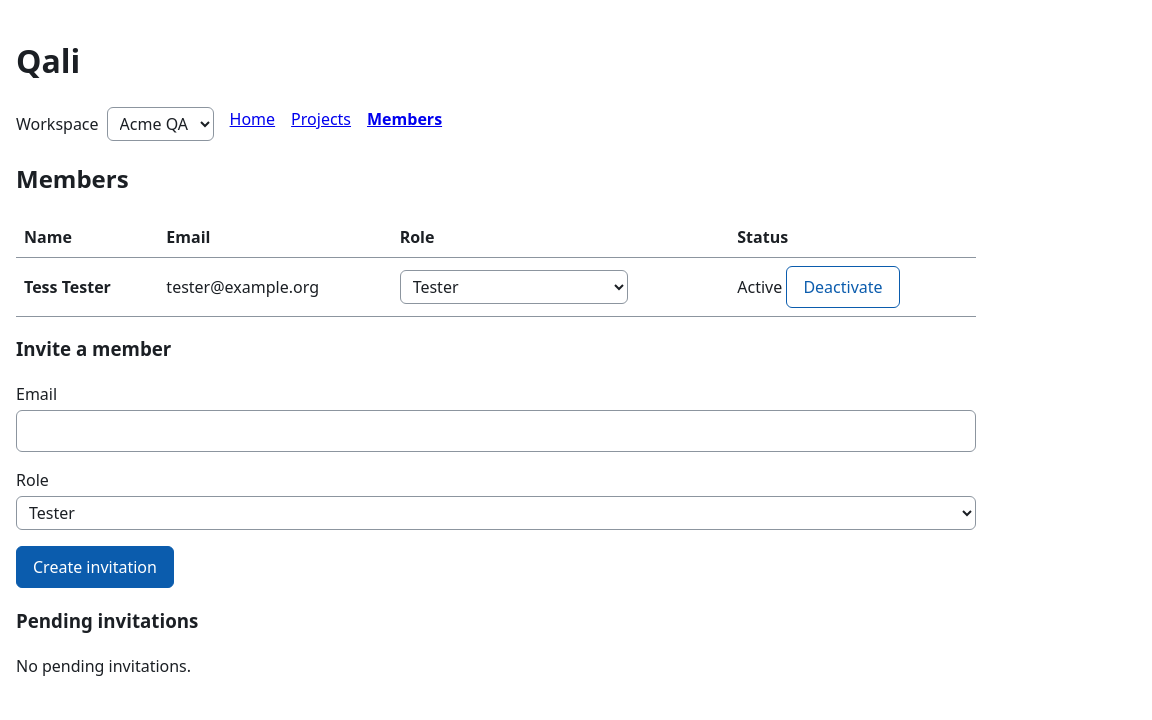
Test: member administration › explains the last-owner rule
Click the button named "Deactivate Tess Tester" at (843, 287), box x1=786 y1=266 x2=900 y2=308
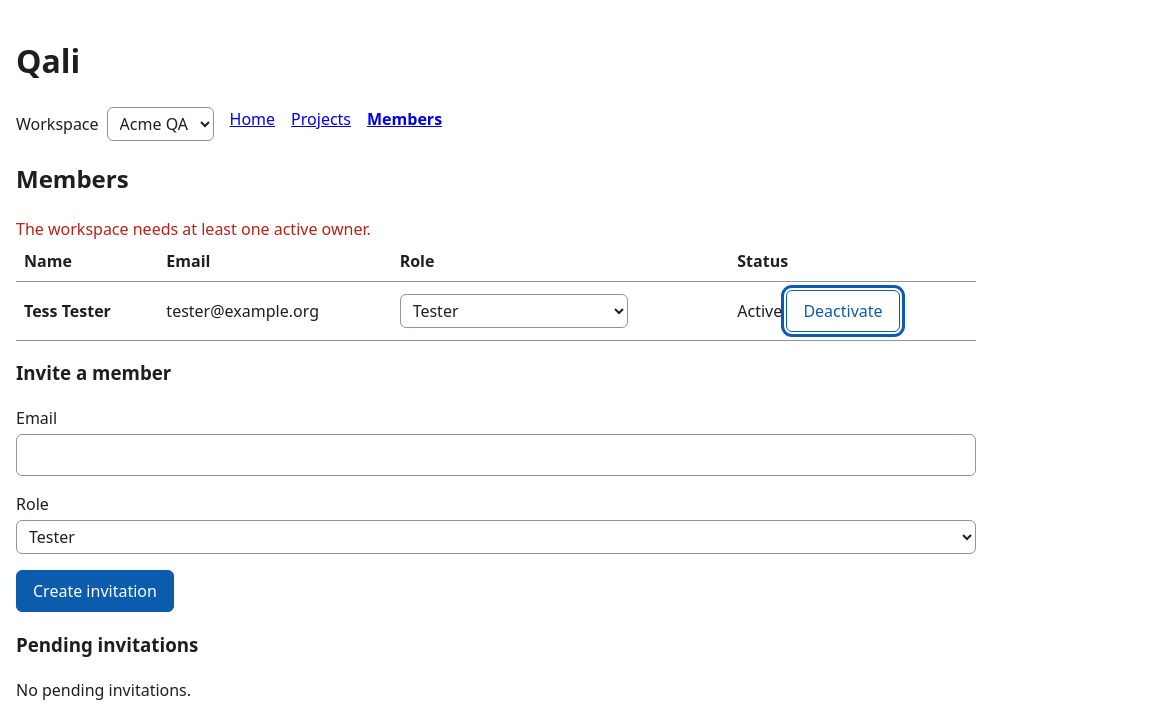
Expected: the message reads "The workspace needs at least one active owner.", x1=16 y1=218 x2=371 y2=240
